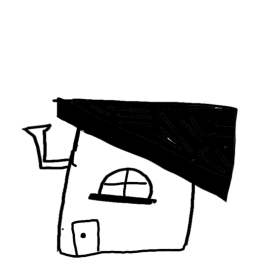bottom_placed_house: (1, 1, 260, 260)
chimney: (12, 120, 79, 183)
closed_window: (86, 164, 160, 207)
door: (68, 214, 109, 260)
shaded_roof: (51, 86, 247, 189)
wall: (50, 122, 205, 260)
